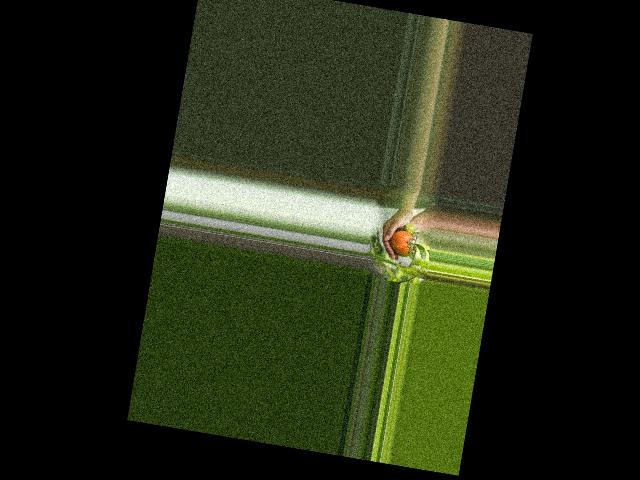tomato: (388, 228, 415, 254)
